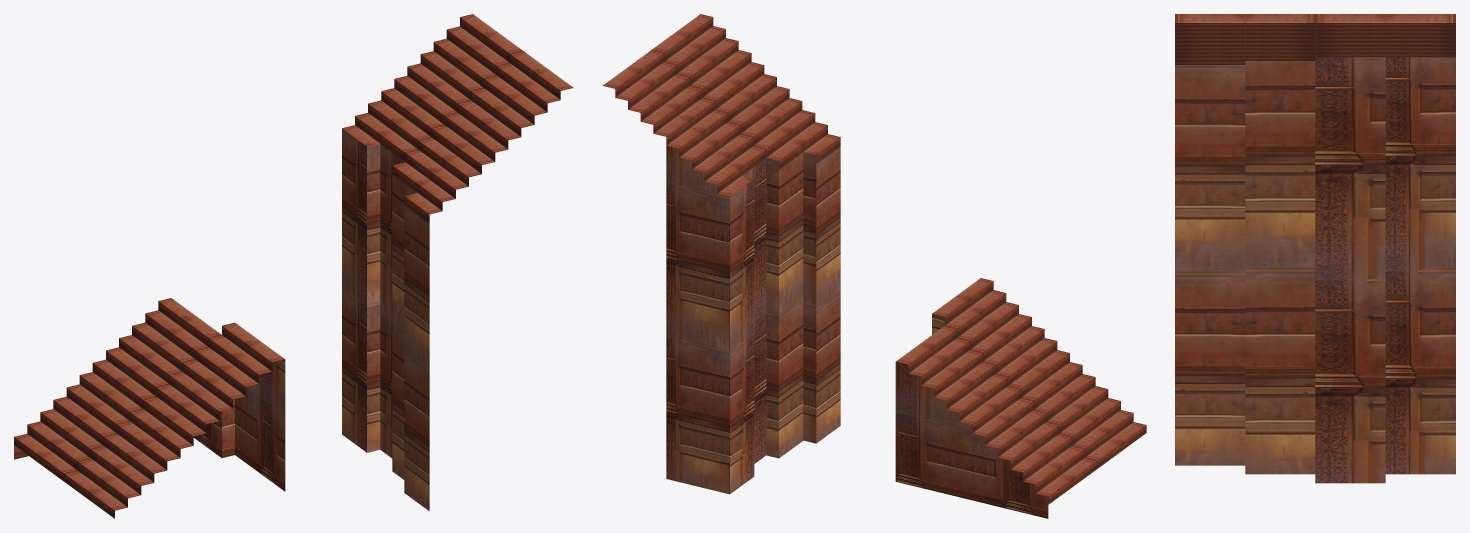
Rendered from env_staircase_broken.FBX.
3 renders of one model, left to right at view 1: azimuth 30°, elevation 25°; view 2: azimuth 150°, elevation 25°; view 3: azimuth 270°, elevation 25°, orthographic. The views are drawn at different scales.
Parts seen in each view (by area): view 1: env_staircase_broken; view 2: env_staircase_broken; view 3: env_staircase_broken.
Part boxes in pixels (x1,y1,x2,y2): env_staircase_broken: (14,14,573,518); env_staircase_broken: (603,14,1146,518); env_staircase_broken: (1175,14,1455,483).
Size of the model in its own units: 413 by 334 by 157.
Materials: 1 (1 with a texture image).
